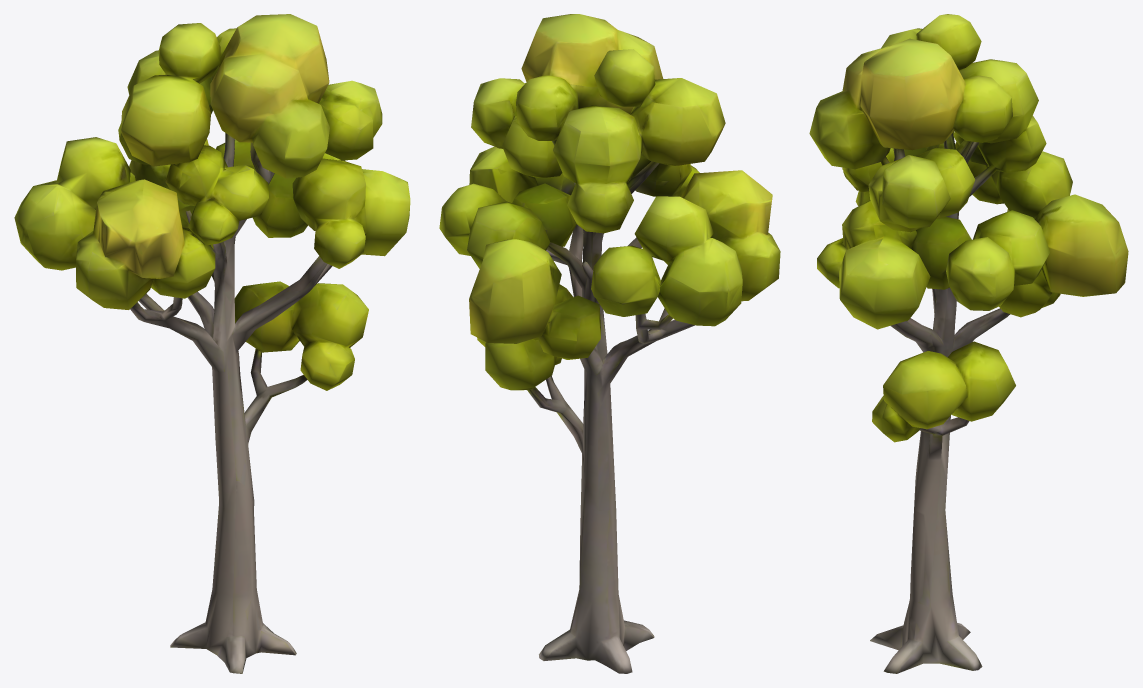
Rendered from elm-or-ash-a.glb.
The picture shows the model from 3 angles, left to right: view 1: azimuth 30°, elevation 25°; view 2: azimuth 150°, elevation 25°; view 3: azimuth 270°, elevation 25°; orthographic projection.
Parts seen in each view (by area): view 1: node_0; view 2: node_0; view 3: node_0.
Boxes of the visible parts, x1,y1,x2,y2 form: node_0: [14, 14, 410, 673]; node_0: [439, 14, 780, 673]; node_0: [809, 14, 1128, 673].
Size of the model in its own units: 5.4 by 10 by 4.63.
1 material, 1 textured.
